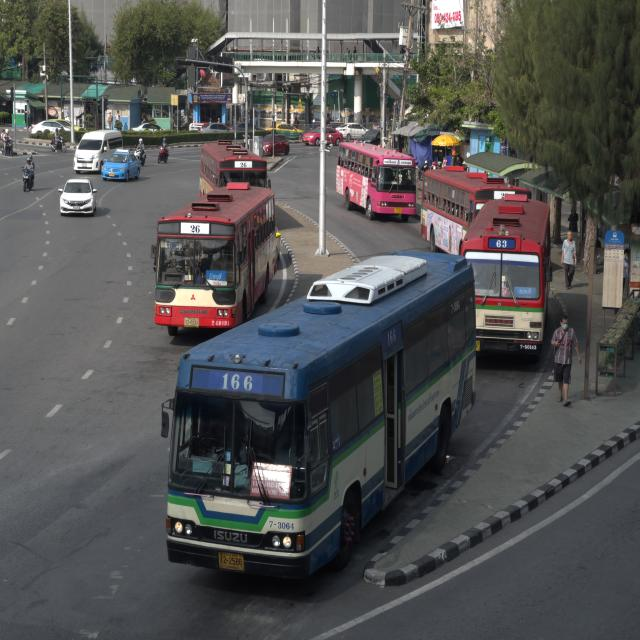BMTA-bus: (162, 252, 479, 585), (152, 186, 276, 332), (459, 195, 553, 360), (200, 142, 273, 202)
Bus-Line-Number: (220, 370, 258, 394), (489, 234, 513, 252), (186, 223, 204, 234)
Destination-Sign-Normal: (250, 461, 292, 500), (207, 268, 227, 284), (516, 286, 536, 299)
